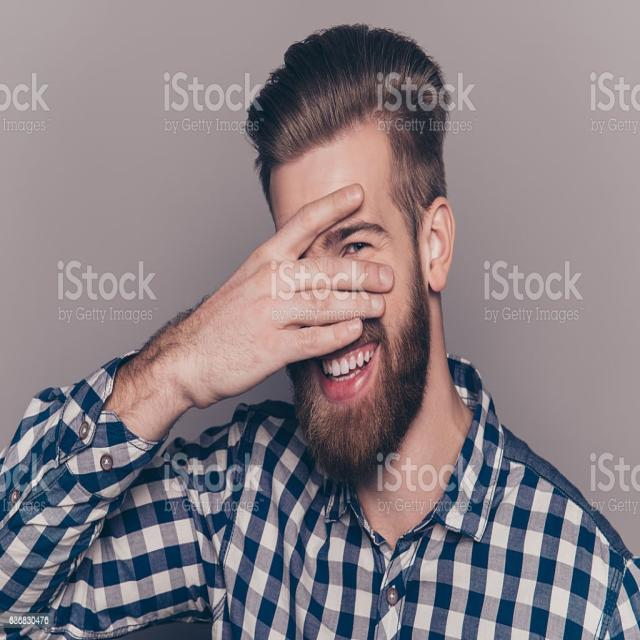front: (265, 200, 443, 452)
